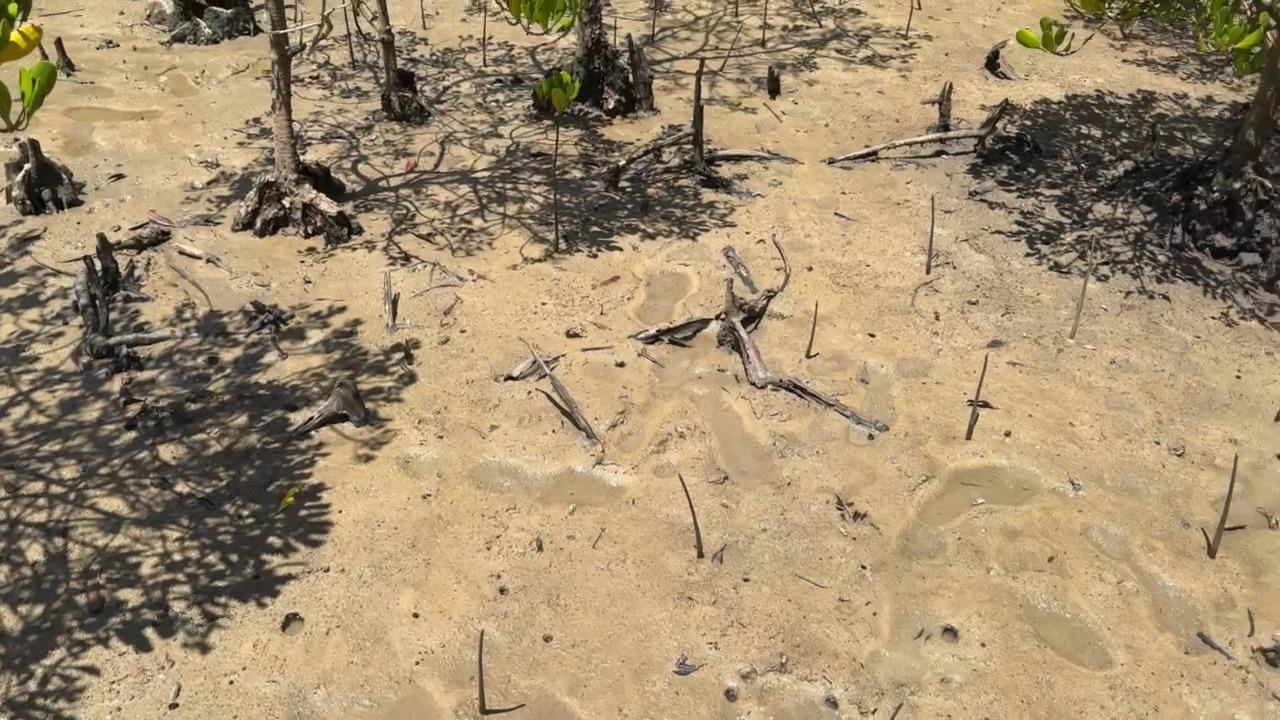Tree: (536, 72, 580, 251), (1207, 452, 1240, 558), (1069, 234, 1096, 338), (678, 472, 705, 559), (967, 356, 989, 440), (720, 26, 744, 70), (342, 0, 357, 68), (805, 301, 819, 358), (477, 628, 486, 712), (927, 194, 936, 274), (483, 2, 490, 66), (808, 0, 822, 28), (761, 0, 769, 48), (904, 0, 913, 38), (652, 0, 659, 43), (421, 0, 426, 29)
